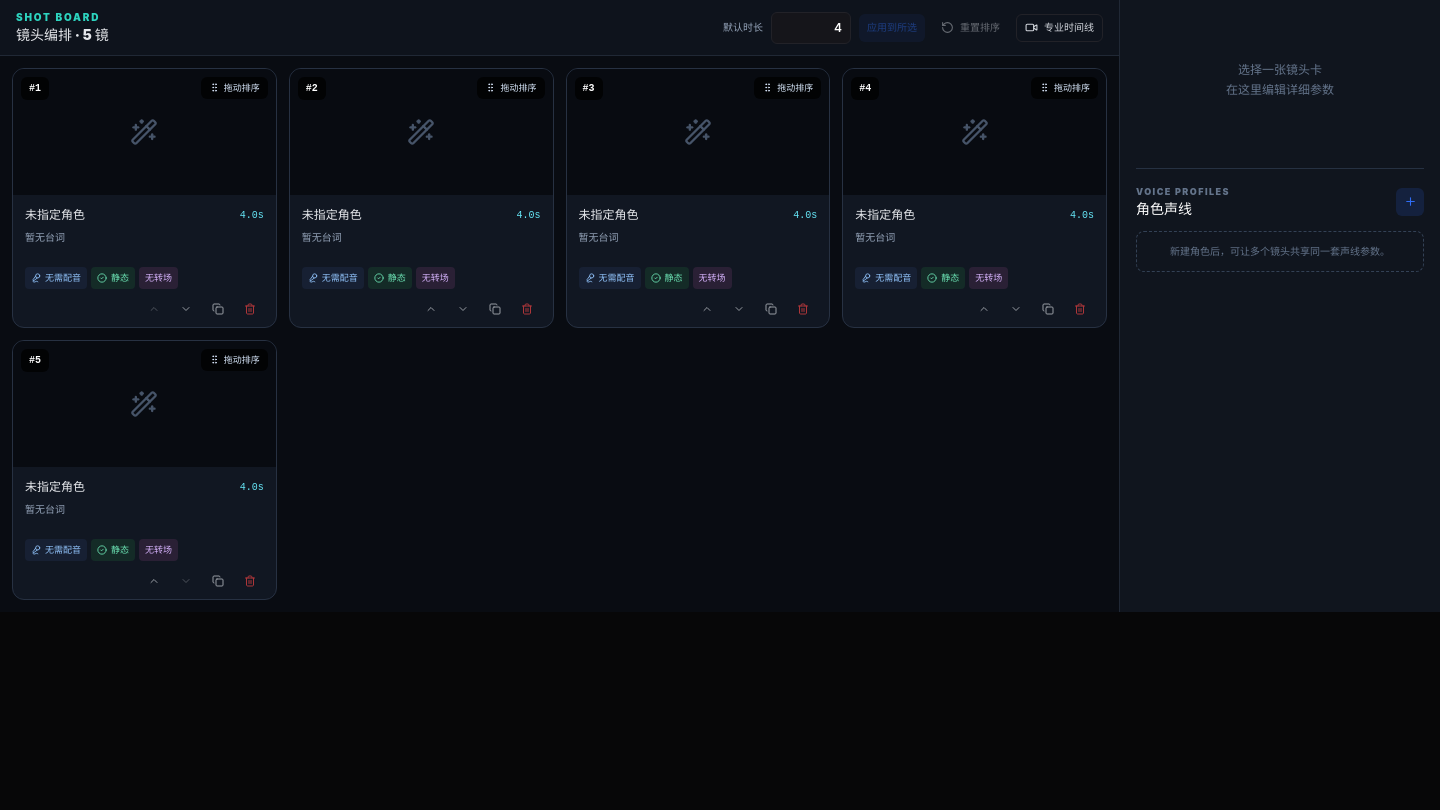
DynamicComicWorkspace › swaps shot 1 and shot 5 during a cross-row pointer drag
Step 1. Press the mouse on the option "#1 拖动排序 未指定角色 4.0s 暂无台词 无需配音 静态 无转场" → [144, 198], box [12,68,277,328]
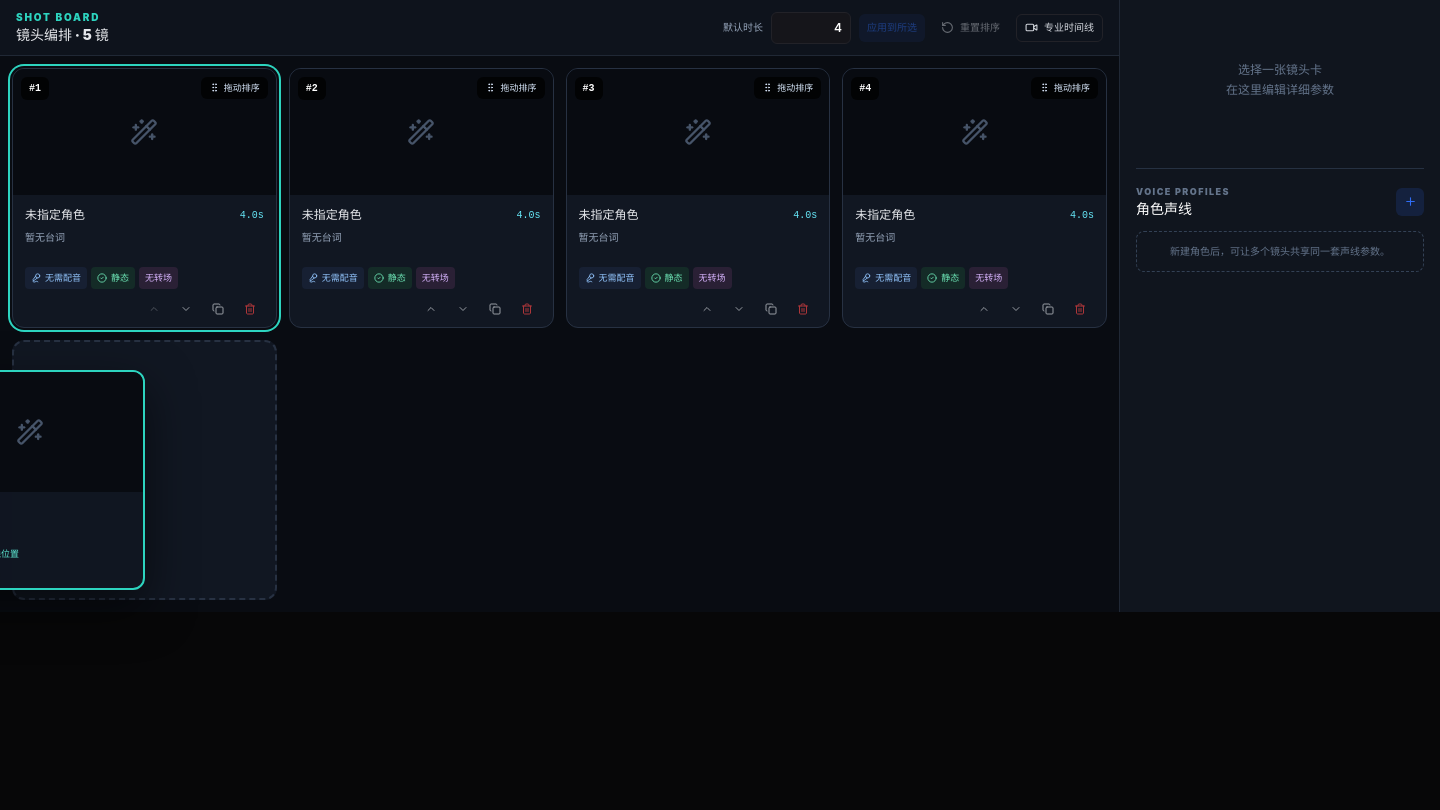
expect the option named "镜头 5，未指定角色，4.0 秒" has class "border-dashed": met, box [12,340,277,600]
Step 2. Click the button named "删除镜头" below "#1" → [250, 308], box [236,294,264,322]
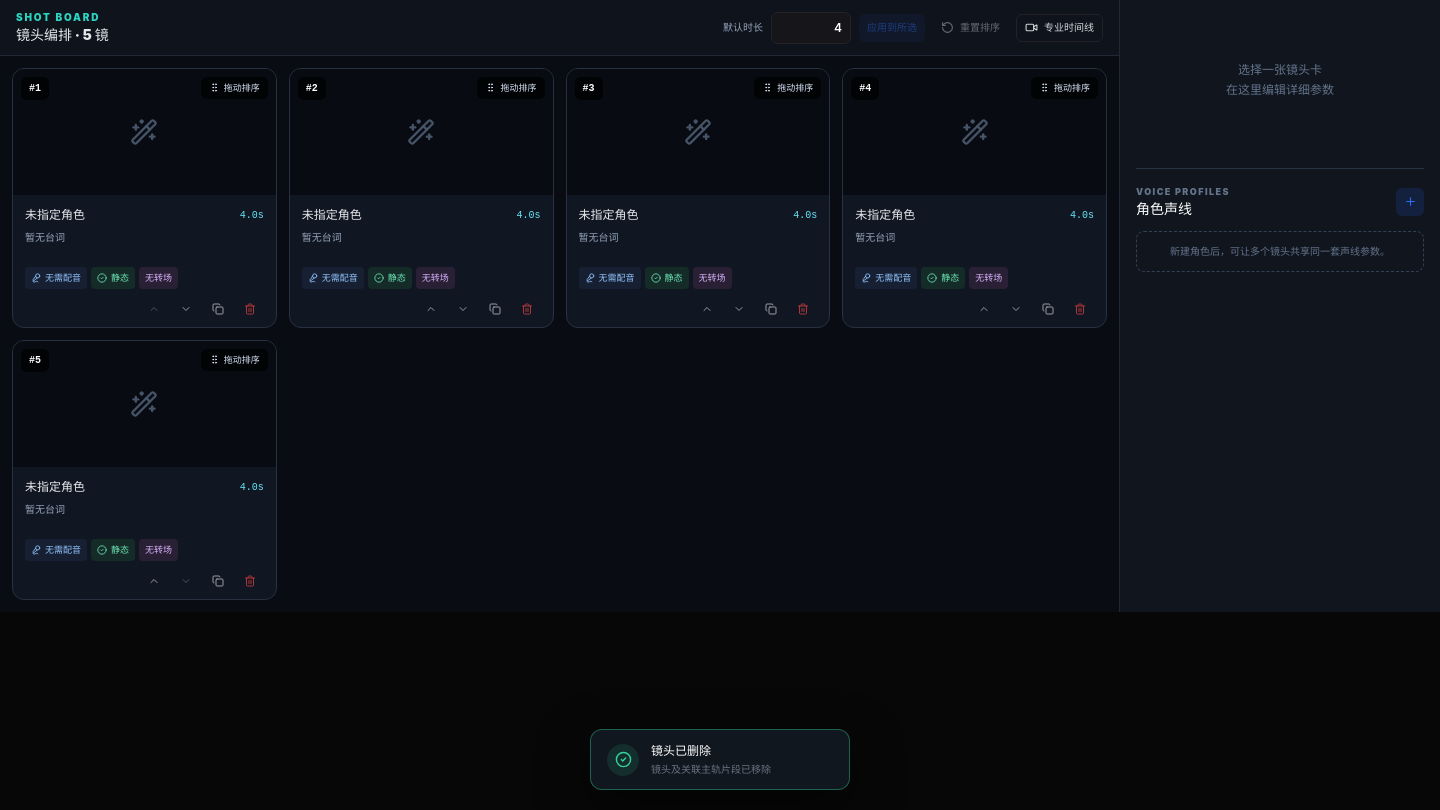
expect the text "镜头已删除" is shown: met, box [651,743,711,758]
expect the text "镜头及关联主轨片段已移除" is shown: met, box [651,762,771,777]
Step 3. Click the button named "复制镜头" below "#3" → [771, 308], box [757,294,785,322]
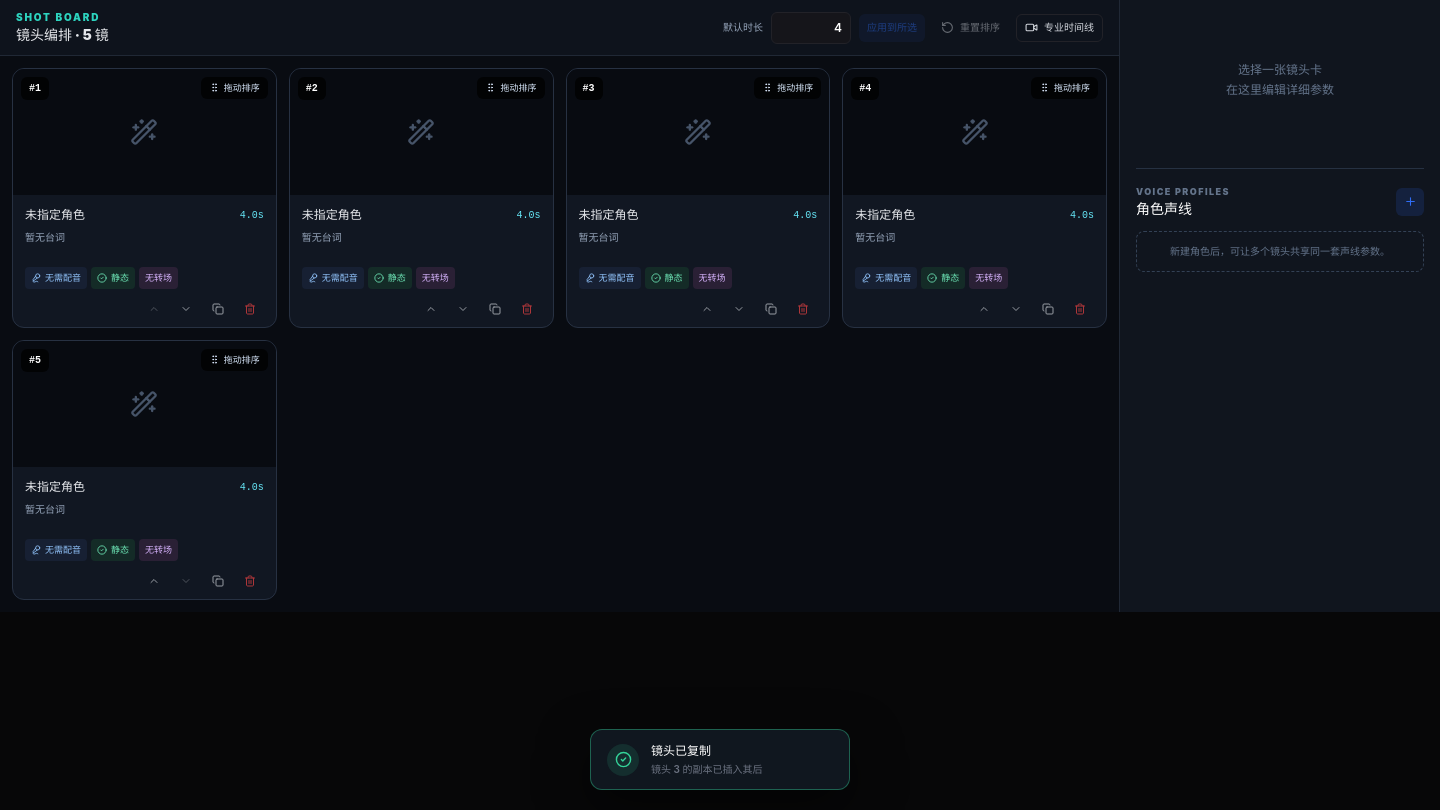
expect the text "镜头已复制" is shown: met, box [651,743,711,758]
expect the text "镜头 3 的副本已插入其后" is shown: met, box [651,762,762,777]
